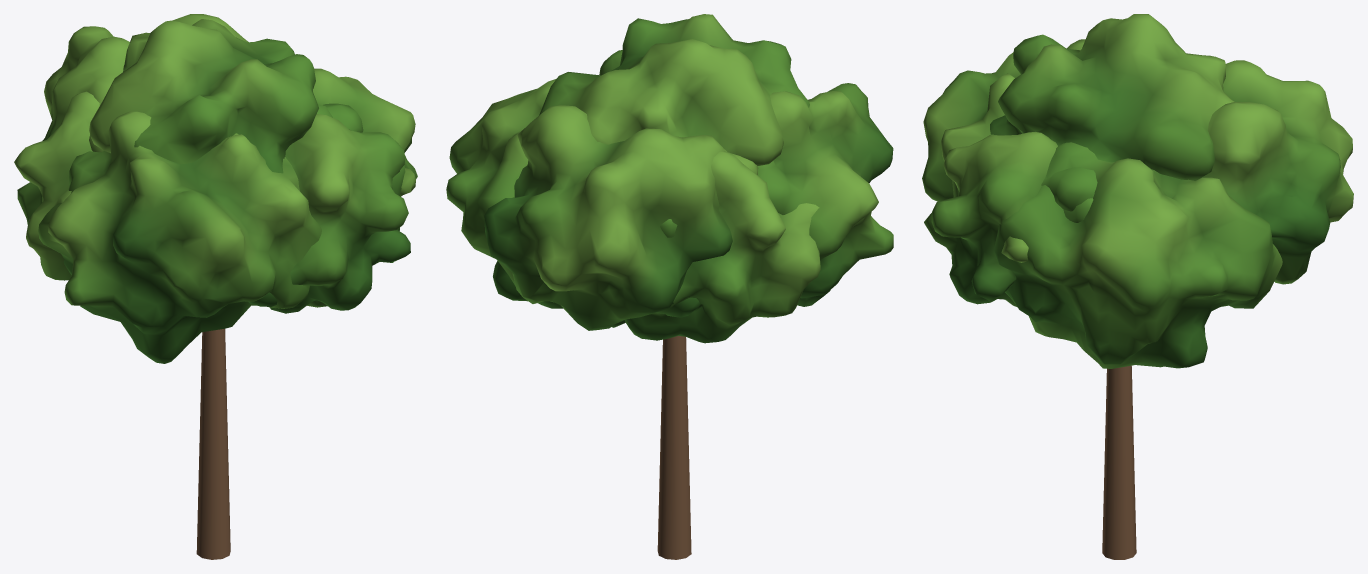
File: tree_round.glb
3 views of the same model, side by side, from view 1: azimuth 30°, elevation 25°; view 2: azimuth 150°, elevation 25°; view 3: azimuth 270°, elevation 25° (orthographic).
Visible parts, largest first — view 1: tree_round_foliage, tree_round; view 2: tree_round_foliage, tree_round; view 3: tree_round_foliage, tree_round.
Boxes of the visible parts, x1,y1,x2,y2 form: tree_round_foliage: (14, 14, 417, 363); tree_round: (196, 328, 230, 559); tree_round_foliage: (446, 14, 893, 343); tree_round: (657, 336, 691, 559); tree_round_foliage: (922, 14, 1353, 368); tree_round: (1102, 365, 1136, 559).
Size of the model in its own units: 4.15 by 5.36 by 4.02.
